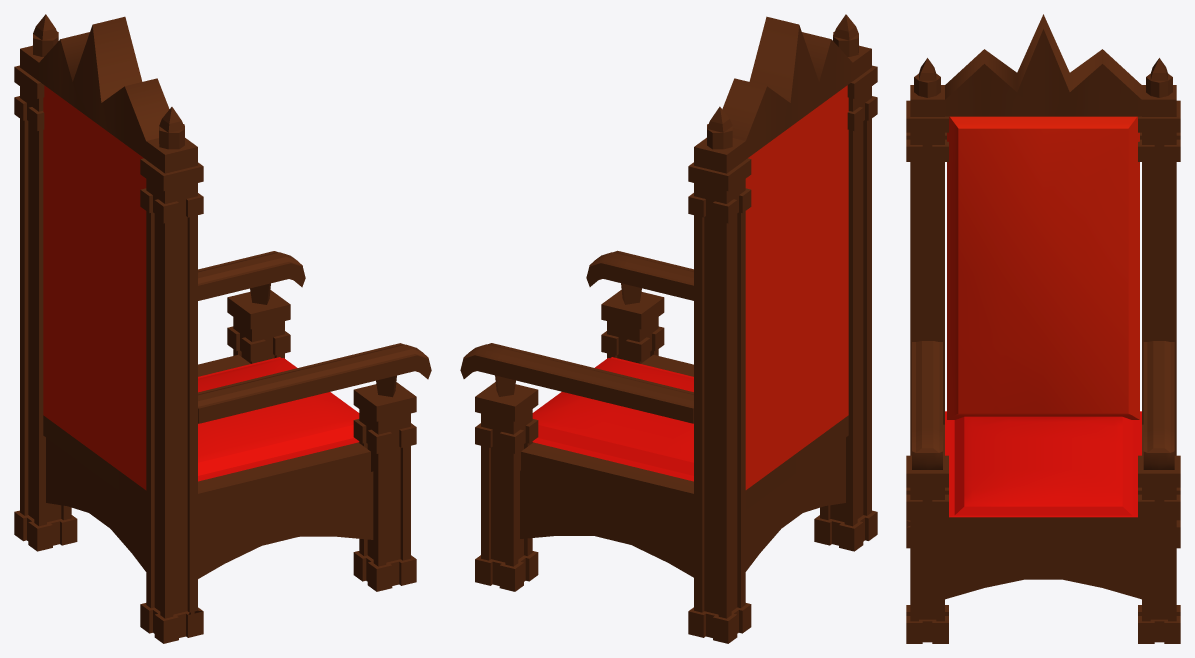
The model's file is Throne.fbx.
3 views of the same model, side by side, from view 1: azimuth 30°, elevation 25°; view 2: azimuth 150°, elevation 25°; view 3: azimuth 270°, elevation 25° (orthographic). The views are drawn at different scales.
Visible parts, largest first — view 1: Throne; view 2: Throne; view 3: Throne.
Part boxes in pixels (x1,y1,x2,y2): Throne: (14, 14, 431, 643); Throne: (460, 14, 877, 643); Throne: (906, 14, 1180, 643).
Size of the model in its own units: 12926 by 25497 by 12236.
